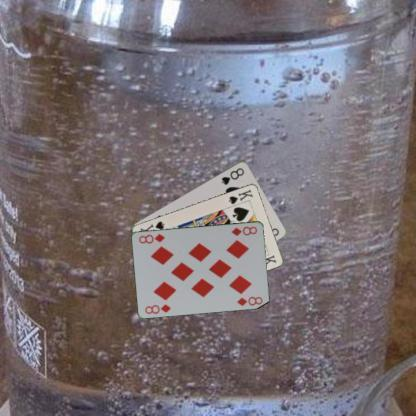8d: (228, 223, 258, 237), (142, 301, 172, 315)
8s: (219, 164, 246, 186)
Ks: (225, 186, 254, 206)
